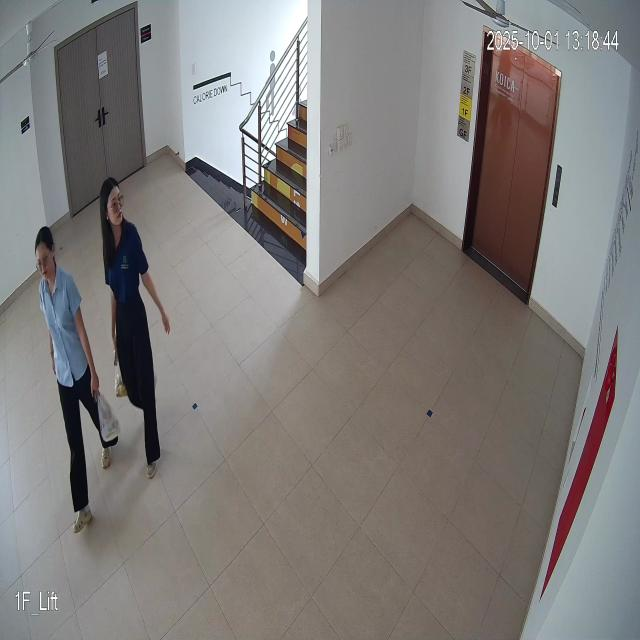face: (96, 170, 127, 230), (31, 222, 60, 286)
